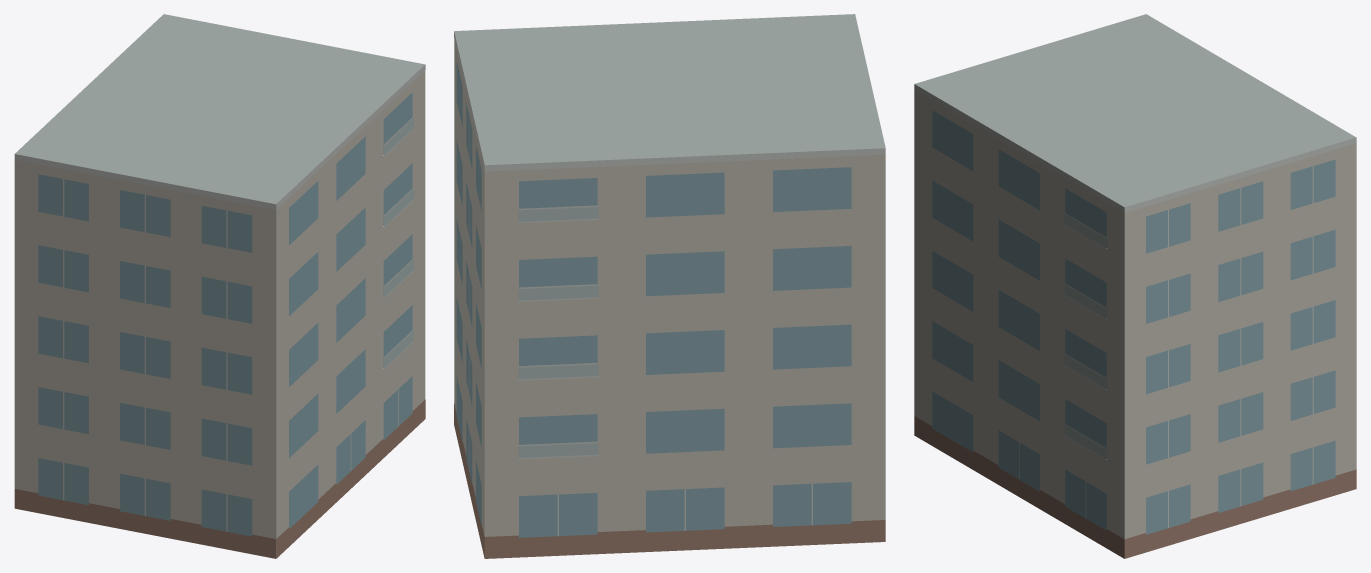
Rendered from survey-upis-32689333.glb.
The picture shows the model from 3 angles, left to right: view 1: azimuth 30°, elevation 25°; view 2: azimuth 150°, elevation 25°; view 3: azimuth 270°, elevation 25°; orthographic projection. The views are drawn at different scales.
Parts seen in each view (by area): view 1: survey-upis-32689333.tmp; view 2: survey-upis-32689333.tmp; view 3: survey-upis-32689333.tmp.
Part boxes in pixels (box(x1,y1,x2,y2)): survey-upis-32689333.tmp: box(14, 14, 425, 558); survey-upis-32689333.tmp: box(454, 14, 885, 558); survey-upis-32689333.tmp: box(914, 14, 1356, 558).
Size of the model in its own units: 17.71 by 15 by 17.11.
